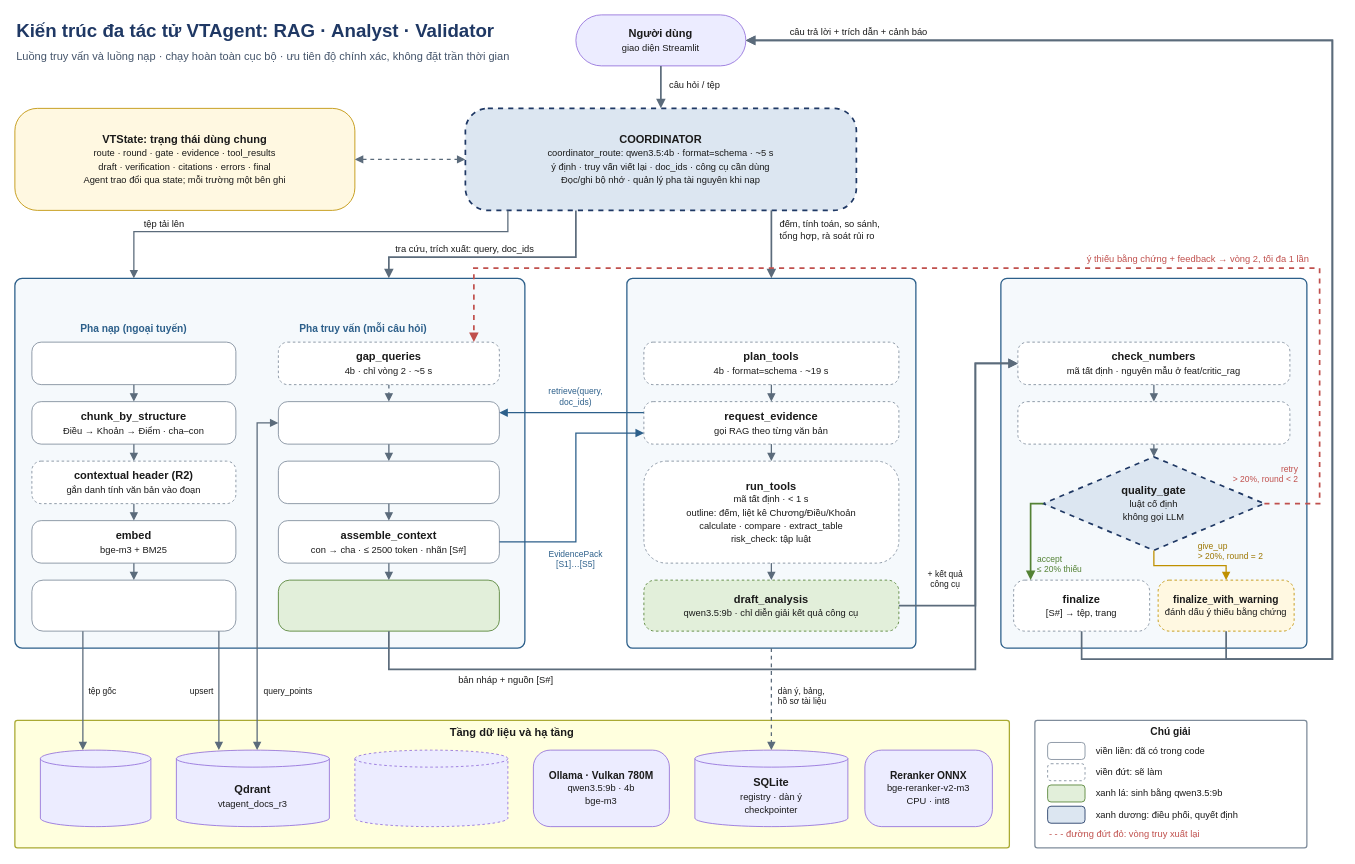
Some shapes in this 1355 by 864 pixel diagram are drawn without their labels. Here are the shapes that lost their labels. From the top down, the box of each, then its label:
(31, 341, 236, 385): parse + quality_gate PDF, DOCX · từ chối ảnh quét
(278, 401, 499, 444): hybrid_search dense 40 + BM25 40 → RRF · doc_ids (sẽ làm)
(1017, 401, 1290, 444): verify_claims 4b · format=schema · ~18 s
(14, 277, 525, 648): ① RAG AGENT Nạp tài liệu · tìm bằng chứng · trả lời có trích dẫn
(278, 460, 499, 504): rerank cross-encoder ONNX · 40 → 5 · ~8 s
(626, 277, 916, 648): ② ANALYST AGENT Tính toán · so sánh · tổng hợp · rà soát
(1000, 277, 1307, 648): ③ VALIDATOR AGENT Kiểm chứng · cổng chất lượng · chốt kết quả
(31, 579, 236, 631): index + outline upsert Qdrant · dàn ý văn bản (sẽ làm)
(278, 579, 499, 631): answer qwen3.5:9b · ~22 s · feedback vòng 2 (sẽ làm)
(40, 749, 151, 827): Kho tệp gốc data/files
(354, 749, 508, 827): Qdrant vtagent_memory
